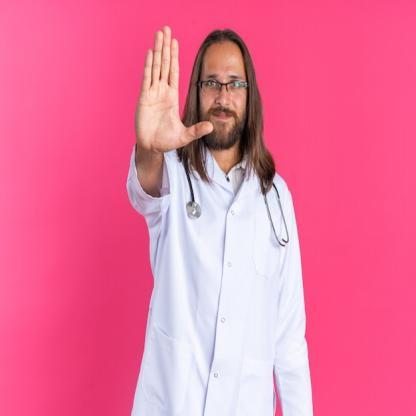stop: (136, 24, 214, 158)
